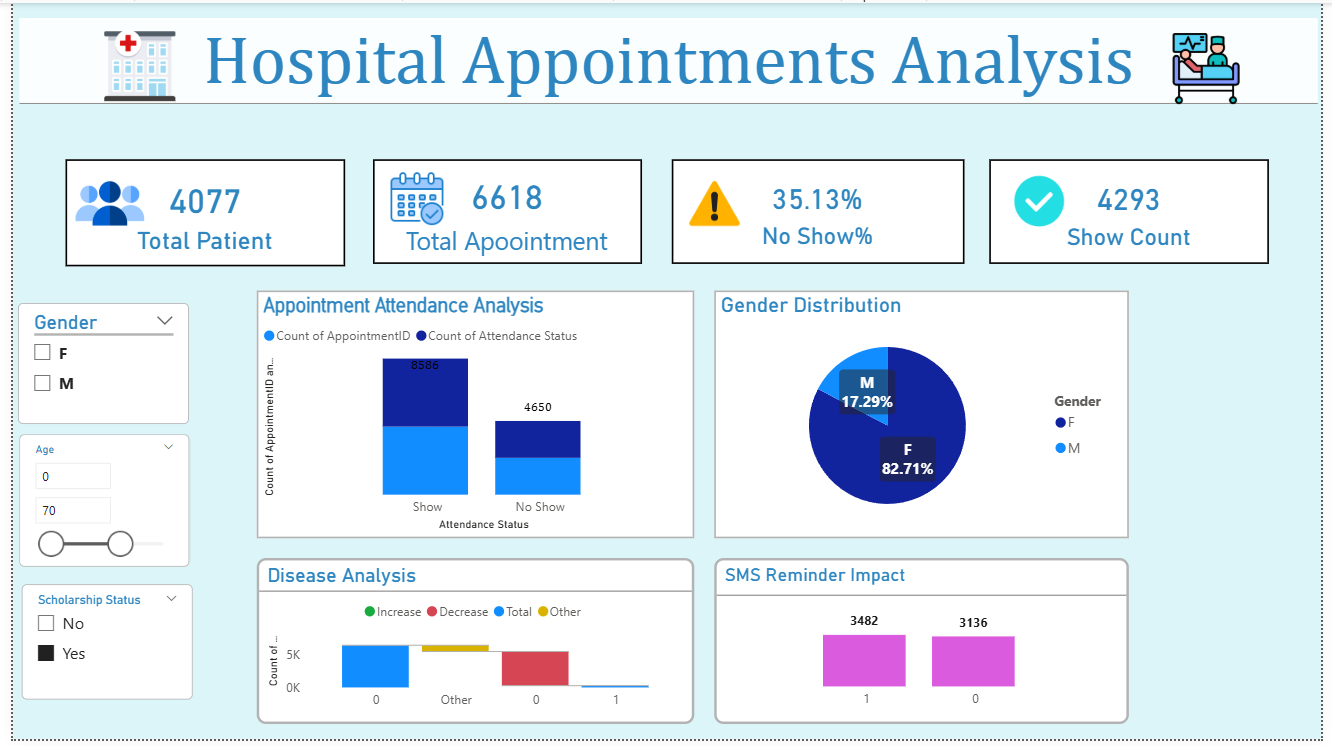

What the dashboard file says about the page in this screenshot:
{"tool":"powerbi","page":{"name":"Page 1","canvas":[1280,720],"ordinal":0},"visuals":[{"type":"textbox","title":"Hospital Appointments Analysis","box":[6.1,14.7,1270.5,84.4],"z":0},{"type":"card","title":"Total Patient","fields":{"Values":["Cleaned_Medical_Data.TotalPatient"]},"box":[51.4,152.9,273.9,105.2],"z":1000},{"type":"card","fields":{"Values":["Cleaned_Medical_Data.TotalApoointment"]},"box":[352.2,152.9,262.9,102.7],"z":2000},{"type":"card","fields":{"Values":["Cleaned_Medical_Data.NoShow%"]},"box":[644.4,152.9,286.1,102.7],"z":3000},{"type":"card","fields":{"Values":["Cleaned_Medical_Data.Show Count"]},"box":[955,152.9,273.9,102.7],"z":4000},{"type":"image","box":[61.1,152.9,67.3,86.8],"z":5000},{"type":"image","box":[364.4,163.9,61.1,55],"z":6000},{"type":"image","box":[657.9,170,56.3,53.8],"z":7000},{"type":"image","box":[978.3,163.9,51.4,59.9],"z":8000},{"type":"slicer","fields":{"Values":["Cleaned_Medical_Data.Gender"]},"box":[4.9,293.5,167.5,118.6],"z":9000},{"type":"slicer","fields":{"Values":["Cleaned_Medical_Data.Age"]},"box":[6.1,421.9,166.3,129.6],"z":10000},{"type":"slicer","fields":{"Values":["Cleaned_Medical_Data.Scholarship Status"]},"box":[8.6,568.6,167.5,112.5],"z":11000},{"type":"columnChart","title":"Appointment Attendance Analysis","fields":{"Category":["Cleaned_Medical_Data.Attendance Status"],"Y":["CountNonNull(Cleaned_Medical_Data.AppointmentID)","CountNonNull(Cleaned_Medical_Data.Attendance Status)"]},"box":[238.5,281.3,428,242.1],"z":12000},{"type":"pieChart","title":"Gender Distribution","fields":{"Category":["Cleaned_Medical_Data.Gender"],"Y":["Cleaned_Medical_Data.TotalPatient"]},"box":[686,281.3,406,242.1],"z":13000},{"type":"waterfallChart","title":"Disease Analysis","fields":{"Category":["Cleaned_Medical_Data.Alcoholism"],"Y":["CountNonNull(Cleaned_Medical_Data.PatientId)"],"Breakdown":["Cleaned_Medical_Data.Hypertension"]},"box":[238.5,542.9,428,162.6],"z":14000},{"type":"columnChart","title":"SMS Reminder Impact","fields":{"Category":["Cleaned_Medical_Data.SMS_received"],"Y":["Cleaned_Medical_Data.No Show Count"]},"box":[686,542.9,406,162.6],"z":14001},{"type":"image","box":[89.3,23.2,69.7,75.8],"z":14002},{"type":"image","box":[1092,29.3,150.4,69.7],"z":14003}]}

Visuals, with their boxes in screenshot pixels (x1, y1, x2, y2), scaled from the page's 1280x720 canvas onto the 1332x746 screenshot:
"Hospital Appointments Analysis" textbox: l=6, t=15, r=1328, b=103
"Total Patient" card: l=53, t=158, r=339, b=267
card - Cleaned_Medical_Data.TotalApoointment: l=367, t=158, r=640, b=265
card - Cleaned_Medical_Data.NoShow%: l=671, t=158, r=968, b=265
card - Cleaned_Medical_Data.Show Count: l=994, t=158, r=1279, b=265
image: l=64, t=158, r=134, b=248
image: l=379, t=170, r=443, b=227
image: l=685, t=176, r=743, b=232
image: l=1018, t=170, r=1072, b=232
slicer - Cleaned_Medical_Data.Gender: l=5, t=304, r=179, b=427
slicer - Cleaned_Medical_Data.Age: l=6, t=437, r=179, b=571
slicer - Cleaned_Medical_Data.Scholarship Status: l=9, t=589, r=183, b=706
"Appointment Attendance Analysis" columnChart: l=248, t=291, r=694, b=542
"Gender Distribution" pieChart: l=714, t=291, r=1136, b=542
"Disease Analysis" waterfallChart: l=248, t=563, r=694, b=731
"SMS Reminder Impact" columnChart: l=714, t=563, r=1136, b=731
image: l=93, t=24, r=165, b=103
image: l=1136, t=30, r=1293, b=103
